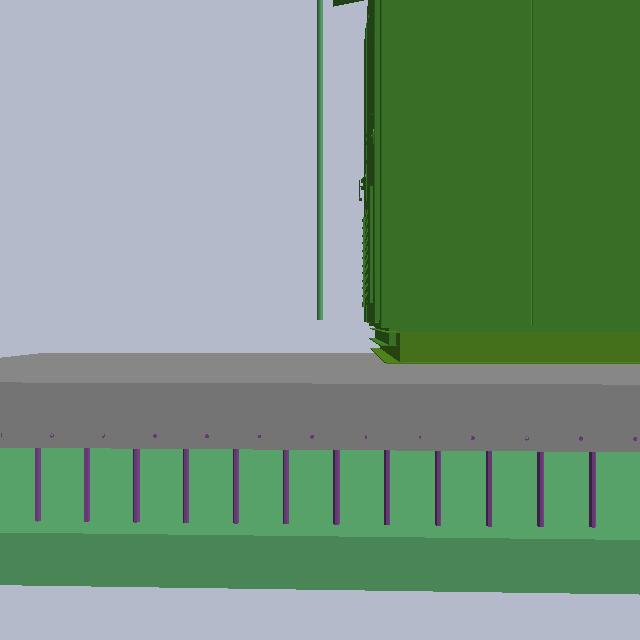Soporte: (313, 1, 325, 322)
